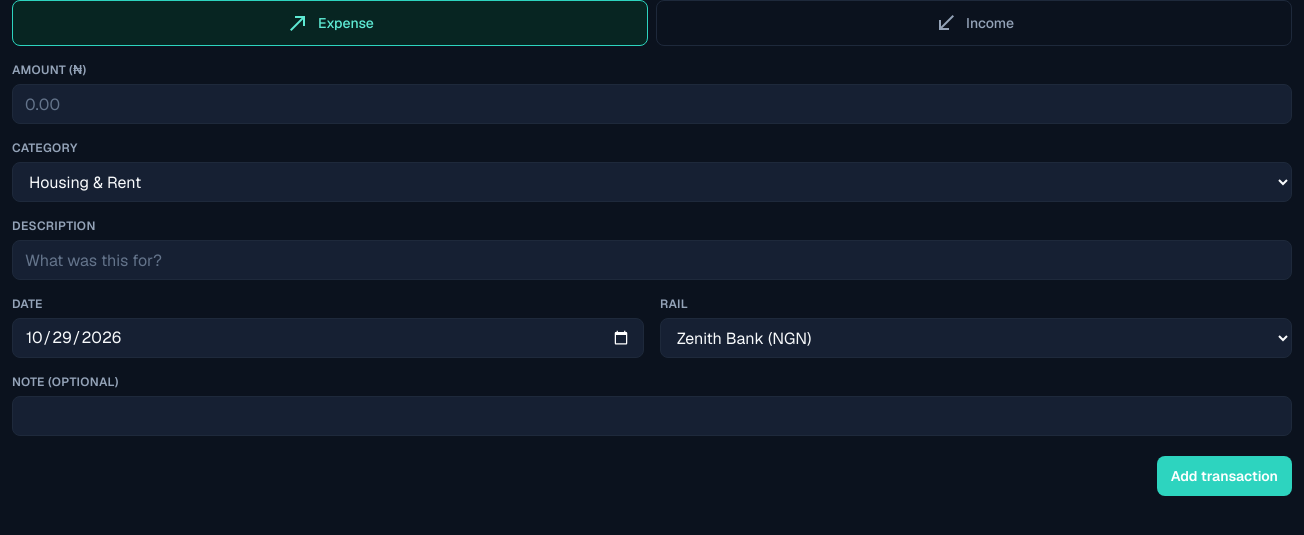
Test case: TransactionForm › rejects more than two decimal places
Type "100.005" into the number field labelled "Amount (₦)". click: [652, 104]
box: [12,84,1292,124]
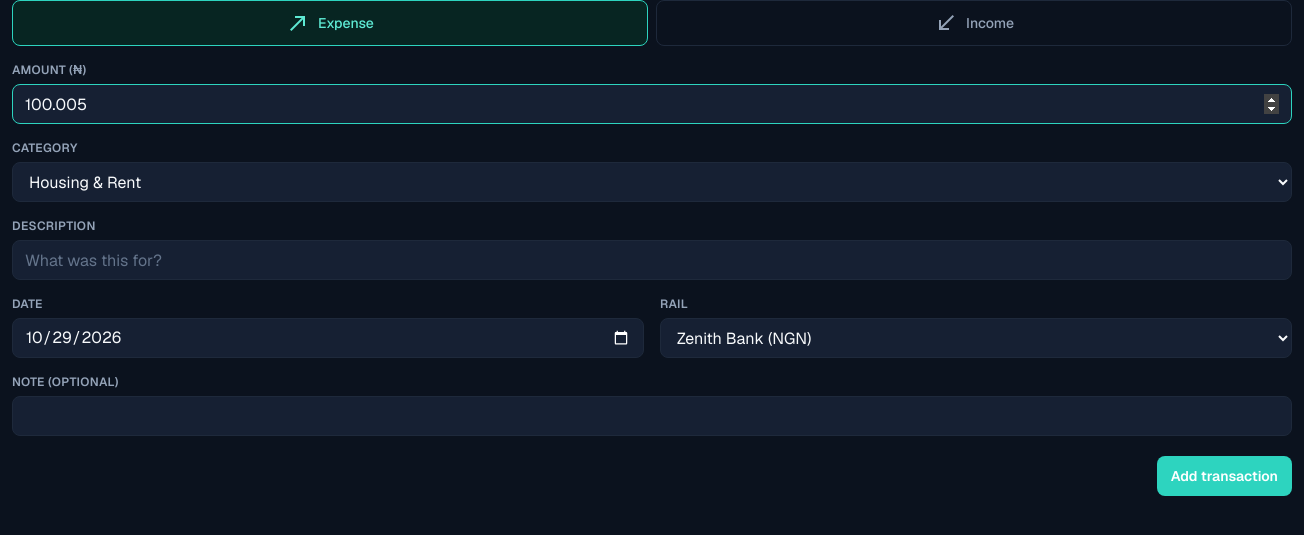
Type "Too precise" into the field labelled "Description". click: [652, 260]
box: [12,240,1292,280]
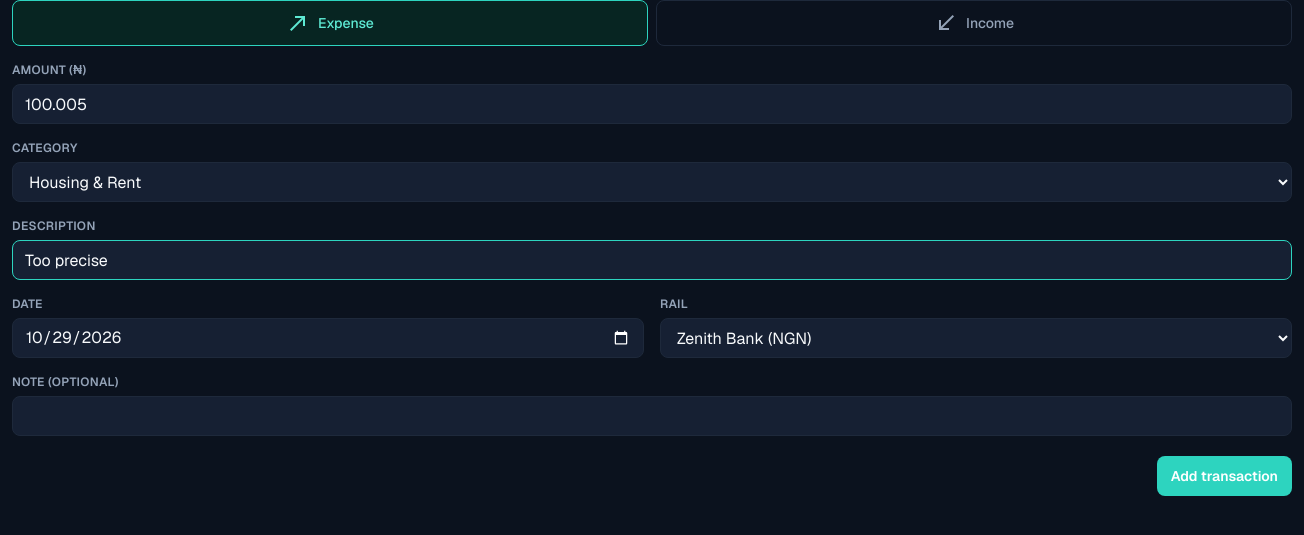
Click the button "Add transaction". click: [1224, 476]
box: [1157,456,1292,496]
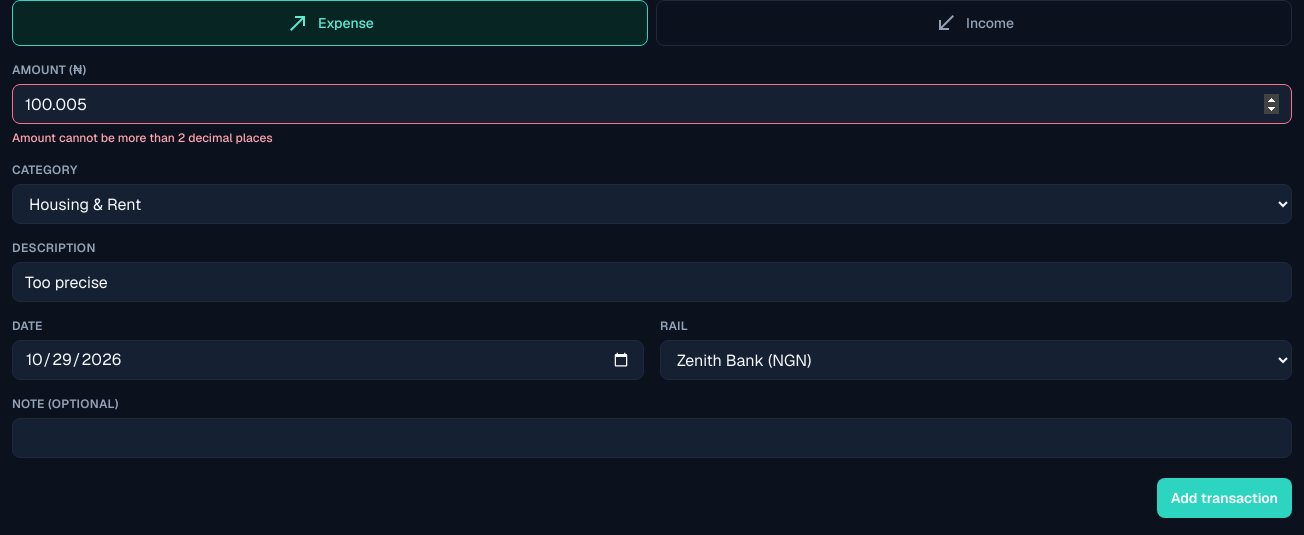
Result: the message shows "2 decimal places" at [12,130,273,146]
